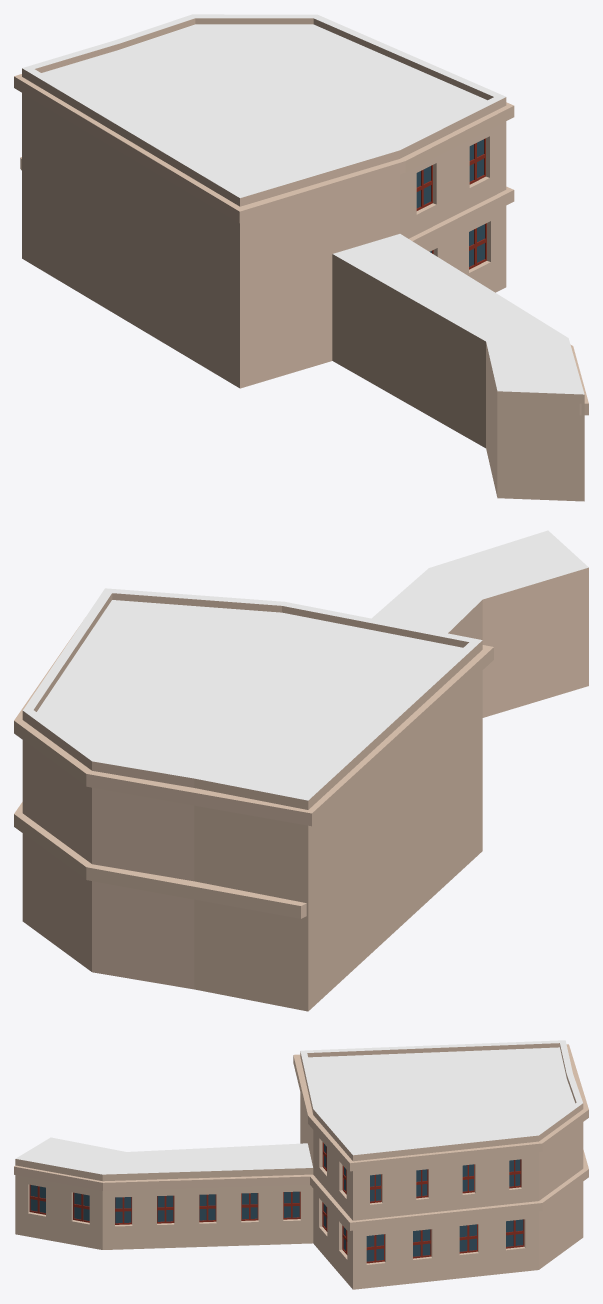
File: PicduMidi_Edificio_extremo_plataforma_01.fbx
3 views of the same model, one above another, from view 1: azimuth 30°, elevation 25°; view 2: azimuth 150°, elevation 25°; view 3: azimuth 270°, elevation 25° (orthographic). The views are drawn at different scales.
Visible parts, largest first — view 1: Edificio_extremo_plataforma; view 2: Edificio_extremo_plataforma; view 3: Edificio_extremo_plataforma.
Part boxes in pixels (bbox=[...]): Edificio_extremo_plataforma: bbox=[14, 14, 588, 501]; Edificio_extremo_plataforma: bbox=[14, 530, 588, 1011]; Edificio_extremo_plataforma: bbox=[14, 1040, 588, 1289].
Size of the model in its own units: 3063 by 1614 by 6256.
